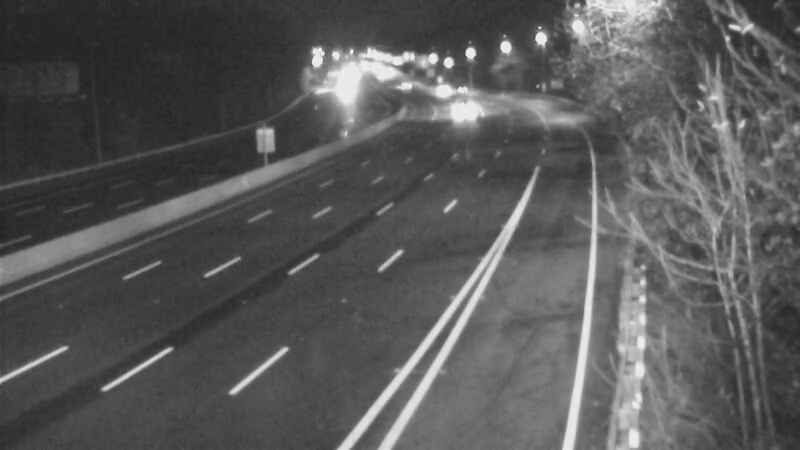vehicle: (379, 60, 429, 110), (434, 68, 484, 118), (416, 65, 466, 115), (438, 90, 488, 140)
